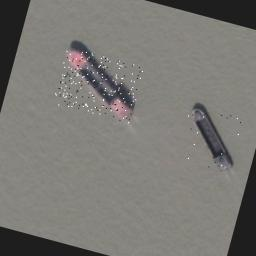boat: (52, 46, 144, 124), (176, 102, 245, 174)
